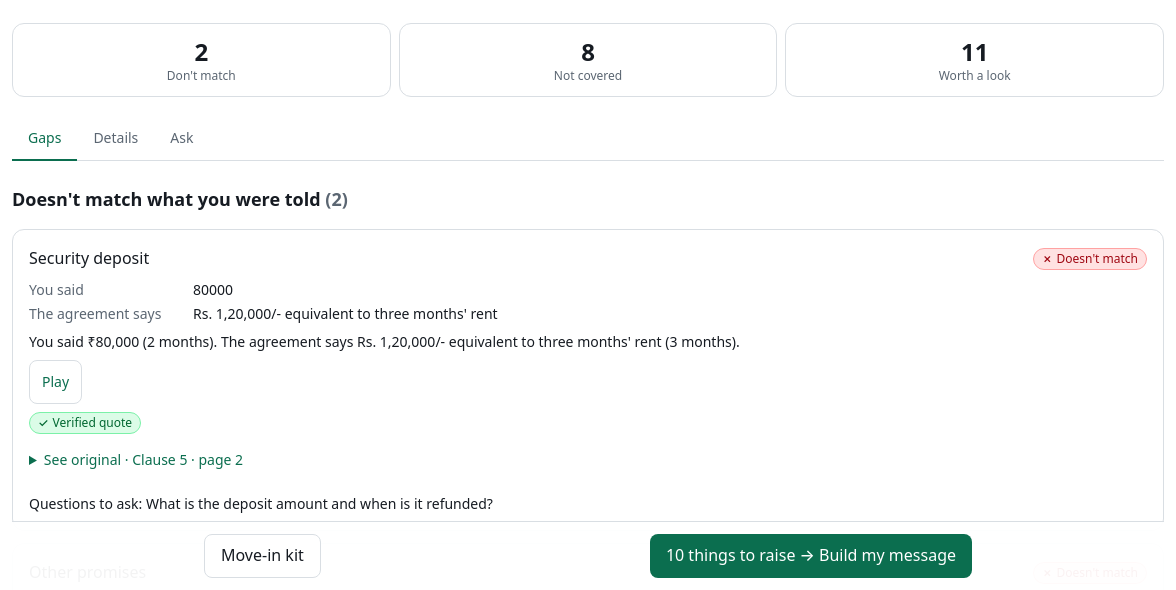
Test: Ask (demo sample) › flags lawyer territory
This screenshot has width=1176, height=590.
Click the tab "Ask" at [182, 139], box [154,117,209,161]
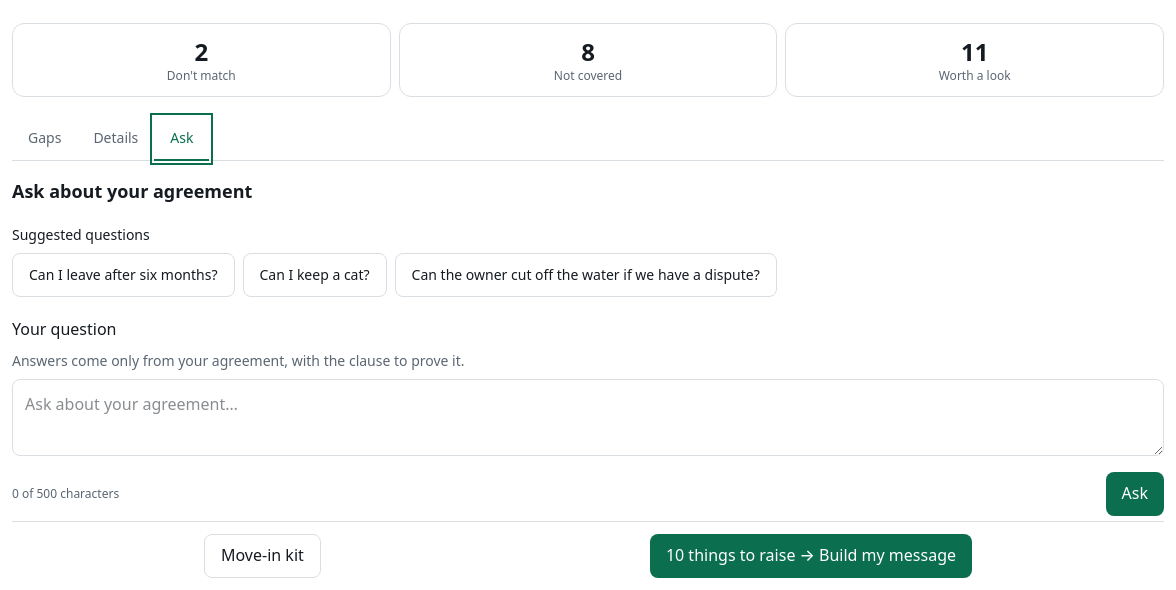
Click the button "Can the owner cut off the water if we have a dispute?" at [586, 275], box [395,253,777,297]
(page scrolled)
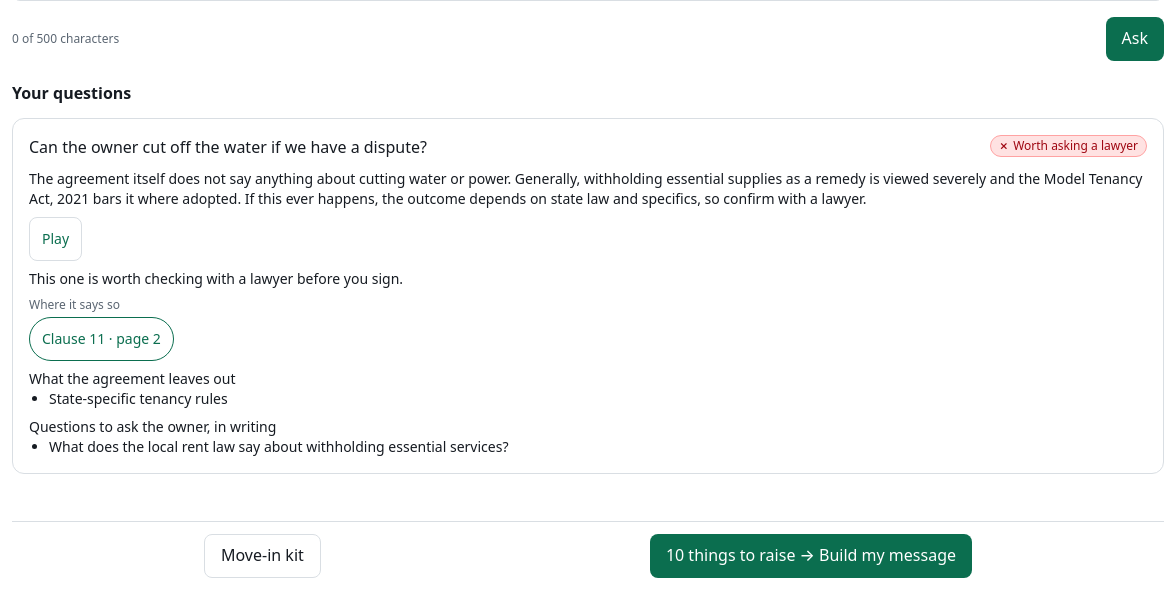
expect the text "Worth asking a lawyer" is shown: met, box [1013,138,1138,154]
expect the text "This one is worth checking with a lawyer before you sign." is shown: met, box [29,269,403,288]
